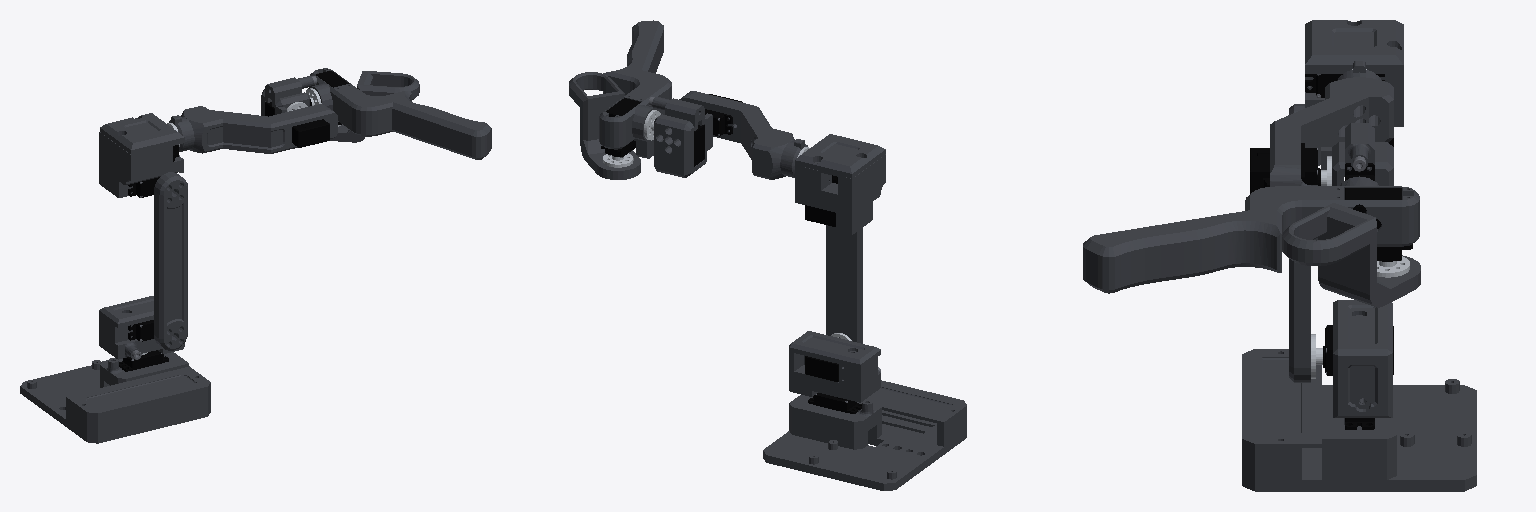
URDF robot description (raft):
<?xml version="1.0" encoding="utf-8"?>
<robot name="raft">
  <link name="base_link">
    <inertial>
      <origin xyz="-0.00730483363719 -0.000420419325433 0.010516627165" rpy="0 0 0"/>
      <mass value="0.08776"/>
      <inertia ixx="5.18931e-05" ixy="2.25048e-06" ixz="-3.40251e-06" iyy="6.09566e-05" iyz="3.09482e-06" izz="0.000102433"/>
    </inertial>
    <visual name="base_link_structure">
      <origin xyz="0 0 0" rpy="0 0 0"/>
      <geometry><mesh filename="meshes/visual/base_link_structure.stl"/></geometry>
      <material name="raft_structure"><color rgba="0.3 0.31 0.335 1"/></material>
    </visual>
    <visual name="base_link_motors">
      <origin xyz="0 0 0" rpy="0 0 0"/>
      <geometry><mesh filename="meshes/visual/base_link_motors.stl"/></geometry>
      <material name="raft_motors"><color rgba="0.06 0.06 0.065 1"/></material>
    </visual>
    <visual name="base_link_fasteners">
      <origin xyz="0 0 0" rpy="0 0 0"/>
      <geometry><mesh filename="meshes/visual/base_link_fasteners.stl"/></geometry>
      <material name="raft_fasteners"><color rgba="0.42 0.43 0.46 1"/></material>
    </visual>
    <collision name="base_link_collision">
      <origin xyz="0 0 0" rpy="0 0 0"/>
      <geometry><mesh filename="meshes/base_link.stl"/></geometry>
    </collision>
  </link>
  <link name="shoulder_link">
    <inertial>
      <origin xyz="0.00683 -0.0001 0.04872" rpy="0 0 0"/>
      <mass value="0.04314"/>
      <inertia ixx="4.90853e-06" ixy="7.971e-08" ixz="1.499e-07" iyy="8.81203e-06" iyz="1.294e-08" izz="8.88116e-06"/>
    </inertial>
    <visual name="shoulder_link_structure">
      <origin xyz="0.013 0 0.05122" rpy="-1.57079632679 0 0"/>
      <geometry><mesh filename="meshes/visual/shoulder_link_structure.stl"/></geometry>
      <material name="raft_structure"><color rgba="0.3 0.31 0.335 1"/></material>
    </visual>
    <visual name="shoulder_link_motors">
      <origin xyz="0.013 0 0.05122" rpy="-1.57079632679 0 0"/>
      <geometry><mesh filename="meshes/visual/shoulder_link_motors.stl"/></geometry>
      <material name="raft_motors"><color rgba="0.06 0.06 0.065 1"/></material>
    </visual>
    <visual name="shoulder_link_horns">
      <origin xyz="0.013 0 0.05122" rpy="-1.57079632679 0 0"/>
      <geometry><mesh filename="meshes/visual/shoulder_link_horns.stl"/></geometry>
      <material name="raft_horns"><color rgba="0.74 0.76 0.79 1"/></material>
    </visual>
    <visual name="shoulder_link_fasteners">
      <origin xyz="0.013 0 0.05122" rpy="-1.57079632679 0 0"/>
      <geometry><mesh filename="meshes/visual/shoulder_link_fasteners.stl"/></geometry>
      <material name="raft_fasteners"><color rgba="0.42 0.43 0.46 1"/></material>
    </visual>
    <collision name="shoulder_link_collision">
      <origin xyz="0.013 0 0.05122" rpy="-1.57079632679 0 0"/>
      <geometry><mesh filename="meshes/shoulder_link.stl"/></geometry>
    </collision>
  </link>
  <link name="upper_arm_link">
    <inertial>
      <origin xyz="0 -0.05 -0.02315" rpy="0 0 0"/>
      <mass value="0.0182"/>
      <inertia ixx="2.3591e-05" ixy="-8.42035e-38" ixz="0" iyy="7.8223e-07" iyz="1.42444e-21" izz="2.40451e-05"/>
    </inertial>
    <visual name="upper_arm_link_structure">
      <origin xyz="0 -0.1 0" rpy="3.14159265359 0 -1.57079632679"/>
      <geometry><mesh filename="meshes/visual/upper_arm_link_structure.stl"/></geometry>
      <material name="raft_structure"><color rgba="0.3 0.31 0.335 1"/></material>
    </visual>
    <visual name="upper_arm_link_horns">
      <origin xyz="0 -0.1 0" rpy="3.14159265359 0 -1.57079632679"/>
      <geometry><mesh filename="meshes/visual/upper_arm_link_horns.stl"/></geometry>
      <material name="raft_horns"><color rgba="0.74 0.76 0.79 1"/></material>
    </visual>
    <collision name="upper_arm_link_collision">
      <origin xyz="0 -0.1 0" rpy="3.14159265359 0 -1.57079632679"/>
      <geometry><mesh filename="meshes/upper_arm_link.stl"/></geometry>
    </collision>
  </link>
  <link name="forearm_link">
    <inertial>
      <origin xyz="0.01484 0.00744 0.0025" rpy="0 0 0"/>
      <mass value="0.0714"/>
      <inertia ixx="1.3758e-05" ixy="-7.469e-08" ixz="-1.53769e-06" iyy="1.73834e-05" iyz="2.9759e-07" izz="1.81406e-05"/>
    </inertial>
    <visual name="forearm_link_structure">
      <origin xyz="0.02416 0 0" rpy="1.57079632679 0 3.14159265359"/>
      <geometry><mesh filename="meshes/visual/forearm_link_structure.stl"/></geometry>
      <material name="raft_structure"><color rgba="0.3 0.31 0.335 1"/></material>
    </visual>
    <visual name="forearm_link_motors">
      <origin xyz="0.02416 0 0" rpy="1.57079632679 0 3.14159265359"/>
      <geometry><mesh filename="meshes/visual/forearm_link_motors.stl"/></geometry>
      <material name="raft_motors"><color rgba="0.06 0.06 0.065 1"/></material>
    </visual>
    <visual name="forearm_link_fasteners">
      <origin xyz="0.02416 0 0" rpy="1.57079632679 0 3.14159265359"/>
      <geometry><mesh filename="meshes/visual/forearm_link_fasteners.stl"/></geometry>
      <material name="raft_fasteners"><color rgba="0.42 0.43 0.46 1"/></material>
    </visual>
    <collision name="forearm_link_collision">
      <origin xyz="0.02416 0 0" rpy="1.57079632679 0 3.14159265359"/>
      <geometry><mesh filename="meshes/forearm_link.stl"/></geometry>
    </collision>
  </link>
  <link name="wrist_1_link">
    <inertial>
      <origin xyz="-2e-05 0.02135 -0.07139" rpy="0 0 0"/>
      <mass value="0.0461"/>
      <inertia ixx="4.66724e-05" ixy="-1.577e-08" ixz="4.116e-08" iyy="3.83882e-05" iyz="1.53861e-05" izz="1.07566e-05"/>
    </inertial>
    <visual name="wrist_1_link_structure">
      <origin xyz="0 0 -0.09792" rpy="-1.57079632679 0 0"/>
      <geometry><mesh filename="meshes/visual/wrist_1_link_structure.stl"/></geometry>
      <material name="raft_structure"><color rgba="0.3 0.31 0.335 1"/></material>
    </visual>
    <visual name="wrist_1_link_motors">
      <origin xyz="0 0 -0.09792" rpy="-1.57079632679 0 0"/>
      <geometry><mesh filename="meshes/visual/wrist_1_link_motors.stl"/></geometry>
      <material name="raft_motors"><color rgba="0.06 0.06 0.065 1"/></material>
    </visual>
    <visual name="wrist_1_link_horns">
      <origin xyz="0 0 -0.09792" rpy="-1.57079632679 0 0"/>
      <geometry><mesh filename="meshes/visual/wrist_1_link_horns.stl"/></geometry>
      <material name="raft_horns"><color rgba="0.74 0.76 0.79 1"/></material>
    </visual>
    <visual name="wrist_1_link_fasteners">
      <origin xyz="0 0 -0.09792" rpy="-1.57079632679 0 0"/>
      <geometry><mesh filename="meshes/visual/wrist_1_link_fasteners.stl"/></geometry>
      <material name="raft_fasteners"><color rgba="0.42 0.43 0.46 1"/></material>
    </visual>
    <collision name="wrist_1_link_collision">
      <origin xyz="0 0 -0.09792" rpy="-1.57079632679 0 0"/>
      <geometry><mesh filename="meshes/wrist_1_link.stl"/></geometry>
    </collision>
  </link>
  <link name="wrist_2_link">
    <inertial>
      <origin xyz="0.00464 3e-05 0.00048" rpy="0 0 0"/>
      <mass value="0.0351"/>
      <inertia ixx="3.42008e-06" ixy="3.215e-08" ixz="1.3694e-07" iyy="4.47832e-06" iyz="4.161e-08" izz="5.27248e-06"/>
    </inertial>
    <visual name="wrist_2_link_structure">
      <origin xyz="0 0 0" rpy="1.57079632679 0 0"/>
      <geometry><mesh filename="meshes/visual/wrist_2_link_structure.stl"/></geometry>
      <material name="raft_structure"><color rgba="0.3 0.31 0.335 1"/></material>
    </visual>
    <visual name="wrist_2_link_motors">
      <origin xyz="0 0 0" rpy="1.57079632679 0 0"/>
      <geometry><mesh filename="meshes/visual/wrist_2_link_motors.stl"/></geometry>
      <material name="raft_motors"><color rgba="0.06 0.06 0.065 1"/></material>
    </visual>
    <visual name="wrist_2_link_horns">
      <origin xyz="0 0 0" rpy="1.57079632679 0 0"/>
      <geometry><mesh filename="meshes/visual/wrist_2_link_horns.stl"/></geometry>
      <material name="raft_horns"><color rgba="0.74 0.76 0.79 1"/></material>
    </visual>
    <visual name="wrist_2_link_fasteners">
      <origin xyz="0 0 0" rpy="1.57079632679 0 0"/>
      <geometry><mesh filename="meshes/visual/wrist_2_link_fasteners.stl"/></geometry>
      <material name="raft_fasteners"><color rgba="0.42 0.43 0.46 1"/></material>
    </visual>
    <collision name="wrist_2_link_collision">
      <origin xyz="0 0 0" rpy="1.57079632679 0 0"/>
      <geometry><mesh filename="meshes/wrist_2_link.stl"/></geometry>
    </collision>
  </link>
  <link name="wrist_3_link">
    <inertial>
      <origin xyz="0.00162 0.02617 -0.04571" rpy="0 0 0"/>
      <mass value="0.0553"/>
      <inertia ixx="9.01654e-05" ixy="2.77967e-06" ixz="-1.00802e-06" iyy="1.87513e-05" iyz="3.05318e-05" izz="7.6915e-05"/>
    </inertial>
    <visual name="wrist_3_link_structure">
      <origin xyz="0 0 -0.078277" rpy="3.14159265359 0 3.14159265359"/>
      <geometry><mesh filename="meshes/visual/wrist_3_link_structure.stl"/></geometry>
      <material name="raft_structure"><color rgba="0.3 0.31 0.335 1"/></material>
    </visual>
    <visual name="wrist_3_link_motors">
      <origin xyz="0 0 -0.078277" rpy="3.14159265359 0 3.14159265359"/>
      <geometry><mesh filename="meshes/visual/wrist_3_link_motors.stl"/></geometry>
      <material name="raft_motors"><color rgba="0.06 0.06 0.065 1"/></material>
    </visual>
    <visual name="wrist_3_link_horns">
      <origin xyz="0 0 -0.078277" rpy="3.14159265359 0 3.14159265359"/>
      <geometry><mesh filename="meshes/visual/wrist_3_link_horns.stl"/></geometry>
      <material name="raft_horns"><color rgba="0.74 0.76 0.79 1"/></material>
    </visual>
    <visual name="wrist_3_link_fasteners">
      <origin xyz="0 0 -0.078277" rpy="3.14159265359 0 3.14159265359"/>
      <geometry><mesh filename="meshes/visual/wrist_3_link_fasteners.stl"/></geometry>
      <material name="raft_fasteners"><color rgba="0.42 0.43 0.46 1"/></material>
    </visual>
    <collision name="wrist_3_link_collision">
      <origin xyz="0 0 -0.078277" rpy="3.14159265359 0 3.14159265359"/>
      <geometry><mesh filename="meshes/wrist_3_link.stl"/></geometry>
    </collision>
  </link>
  <link name="trigger_link">
    <inertial>
      <origin xyz="-0.0131 0.0152 0.01278" rpy="0 0 0"/>
      <mass value="0.0143"/>
      <inertia ixx="4.94175e-06" ixy="1.37642e-06" ixz="-1.42386e-06" iyy="4.41935e-06" iyz="1.71948e-06" izz="4.54686e-06"/>
    </inertial>
    <visual name="trigger_link_structure">
      <origin xyz="0 0 0" rpy="0 0 0"/>
      <geometry><mesh filename="meshes/visual/trigger_link_structure.stl"/></geometry>
      <material name="raft_trigger"><color rgba="0.3 0.31 0.335 1"/></material>
    </visual>
    <visual name="trigger_link_horns">
      <origin xyz="0 0 0" rpy="0 0 0"/>
      <geometry><mesh filename="meshes/visual/trigger_link_horns.stl"/></geometry>
      <material name="raft_horns"><color rgba="0.74 0.76 0.79 1"/></material>
    </visual>
    <collision name="trigger_link_collision">
      <origin xyz="0 0 0" rpy="0 0 0"/>
      <geometry><mesh filename="meshes/trigger_link.stl"/></geometry>
    </collision>
  </link>
  <link name="tcp"/>
  <joint name="base_joint" type="revolute">
    <origin xyz="0 0 0" rpy="0 0 0"/>
    <parent link="base_link"/>
    <child link="shoulder_link"/>
    <axis xyz="0 0 1"/>
    <limit lower="-2.37853470462" upper="2.37853470462" effort="0.588399" velocity="6"/>
    <dynamics damping="0.01" friction="0.02"/>
  </joint>
  <joint name="shoulder_joint" type="revolute">
    <origin xyz="0.013 0 0.05122" rpy="-1.57079632679 0 0"/>
    <parent link="shoulder_link"/>
    <child link="upper_arm_link"/>
    <axis xyz="0 0 1"/>
    <limit lower="-1.46537843997" upper="2.29510796637" effort="0.588399" velocity="6"/>
    <dynamics damping="0.01" friction="0.02"/>
  </joint>
  <joint name="elbow_joint" type="revolute">
    <origin xyz="0 -0.1 0" rpy="3.14159265359 0 -1.57079632679"/>
    <parent link="upper_arm_link"/>
    <child link="forearm_link"/>
    <axis xyz="0 0 1"/>
    <limit lower="-1.40202298813" upper="1.61984007878" effort="0.588399" velocity="6"/>
    <dynamics damping="0.01" friction="0.02"/>
  </joint>
  <joint name="wrist_1_joint" type="revolute">
    <origin xyz="0.02416 0 0" rpy="1.57079632679 0 3.14159265359"/>
    <parent link="forearm_link"/>
    <child link="wrist_1_link"/>
    <axis xyz="0 0 1"/>
    <limit lower="-2.76739406196" upper="2.67908040181" effort="0.588399" velocity="6"/>
    <dynamics damping="0.01" friction="0.02"/>
  </joint>
  <joint name="wrist_2_joint" type="revolute">
    <origin xyz="0 0 -0.09792" rpy="-1.57079632679 0 0"/>
    <parent link="wrist_1_link"/>
    <child link="wrist_2_link"/>
    <axis xyz="0 0 1"/>
    <limit lower="-2.19911485751" upper="2.08950818049" effort="0.588399" velocity="6"/>
    <dynamics damping="0.01" friction="0.02"/>
  </joint>
  <joint name="wrist_3_joint" type="revolute">
    <origin xyz="0 0 0" rpy="1.57079632679 0 0"/>
    <parent link="wrist_2_link"/>
    <child link="wrist_3_link"/>
    <axis xyz="0 0 1"/>
    <limit lower="-2.57436064669" upper="2.6069983037" effort="0.588399" velocity="6"/>
    <dynamics damping="0.01" friction="0.02"/>
  </joint>
  <joint name="trigger_joint" type="revolute">
    <origin xyz="0 -0.01129 -0.03571" rpy="-1.57079632679 0 -1.57079632679"/>
    <parent link="wrist_3_link"/>
    <child link="trigger_link"/>
    <axis xyz="0 0 1"/>
    <limit lower="-0.691673982565" upper="0" effort="0.588399" velocity="6"/>
    <dynamics damping="0.01" friction="0.02"/>
  </joint>
  <joint name="tcp_fixed_joint" type="fixed">
    <origin xyz="0 0 -0.078277" rpy="3.14159265359 0 3.14159265359"/>
    <parent link="wrist_3_link"/>
    <child link="tcp"/>
  </joint>
</robot>

--- Render facts (derived) ---
3 views of the same robot in one strip: view 1: azimuth 30°, elevation 25°; view 2: azimuth 150°, elevation 25°; view 3: azimuth 270°, elevation 25° (orthographic).
Robot: raft — 9 links, 8 joints (7 revolute, 1 fixed); root link base_link; default pose: all joints at 0.
Links seen in each view (by area): view 1: base_link, wrist_3_link, wrist_1_link, upper_arm_link, forearm_link, shoulder_link, trigger_link, wrist_2_link; view 2: base_link, forearm_link, wrist_3_link, shoulder_link, wrist_1_link, upper_arm_link, wrist_2_link, trigger_link; view 3: base_link, wrist_3_link, wrist_1_link, trigger_link, shoulder_link, forearm_link, wrist_2_link, upper_arm_link.
Boxes of the visible links, x1,y1,x2,y2 form: base_link: (20, 350, 210, 443); wrist_3_link: (306, 68, 491, 159); wrist_1_link: (167, 104, 337, 153); upper_arm_link: (154, 172, 187, 350); forearm_link: (99, 113, 184, 197); shoulder_link: (99, 296, 184, 359); trigger_link: (330, 71, 419, 142); wrist_2_link: (261, 76, 316, 116); base_link: (763, 380, 966, 490); forearm_link: (795, 134, 885, 234); wrist_3_link: (599, 20, 671, 158); shoulder_link: (789, 331, 880, 402); wrist_1_link: (679, 91, 809, 179); upper_arm_link: (826, 225, 862, 343); wrist_2_link: (649, 97, 712, 177); trigger_link: (569, 72, 640, 179); base_link: (1242, 349, 1476, 491); wrist_3_link: (1083, 176, 1419, 293); wrist_1_link: (1250, 61, 1393, 193); trigger_link: (1282, 203, 1420, 307); shoulder_link: (1323, 300, 1393, 417); forearm_link: (1305, 20, 1403, 146); wrist_2_link: (1321, 123, 1393, 185); upper_arm_link: (1289, 104, 1322, 382).
Size in the robot's own frame: 0.2597 by 0.1576 by 0.1941 metres.
Meshes: 26 distinct files referenced, 26 mesh visuals loaded (26 binary STL).
